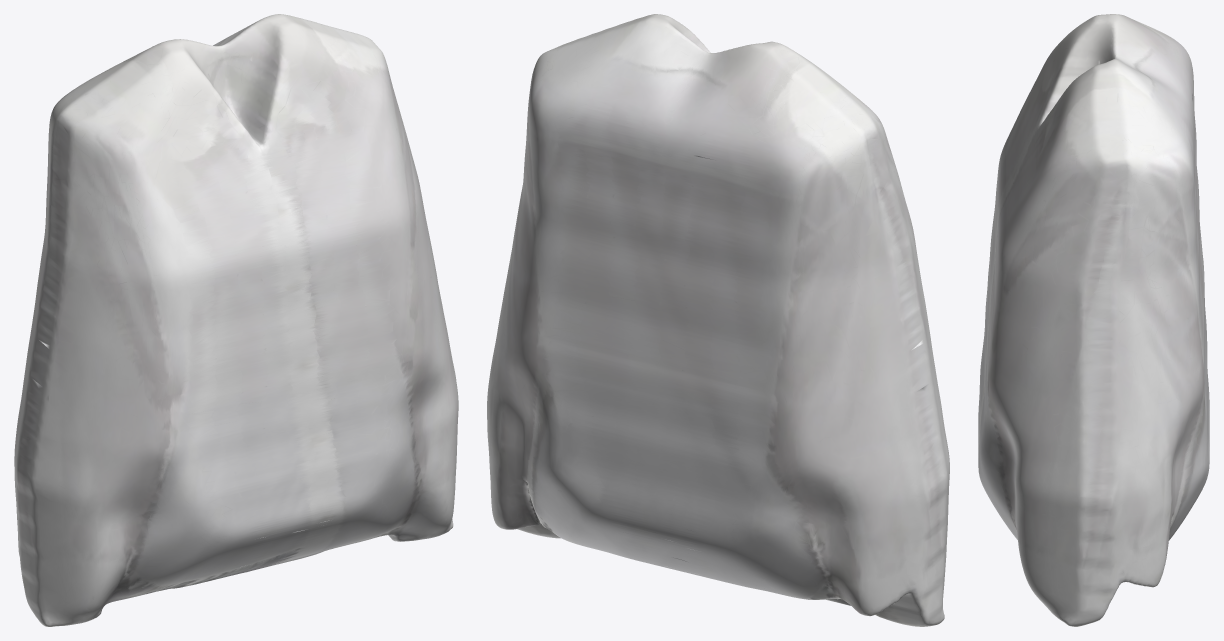
Rendered from NF013-worn-v3.glb.
The picture shows the model from 3 angles, left to right: view 1: azimuth 30°, elevation 25°; view 2: azimuth 150°, elevation 25°; view 3: azimuth 270°, elevation 25°; orthographic projection. The views are drawn at different scales.
Parts seen in each view (by area): view 1: NF013_worn_photo_fitted; view 2: NF013_worn_photo_fitted; view 3: NF013_worn_photo_fitted.
Boxes of the visible parts, x1,y1,x2,y2 form: NF013_worn_photo_fitted: (14,14,458,626); NF013_worn_photo_fitted: (487,14,949,626); NF013_worn_photo_fitted: (978,14,1209,626).
Bounding box in the file's own units: 0.5683 × 0.6838 × 0.2893.
Materials: 1 (1 with a texture image).
